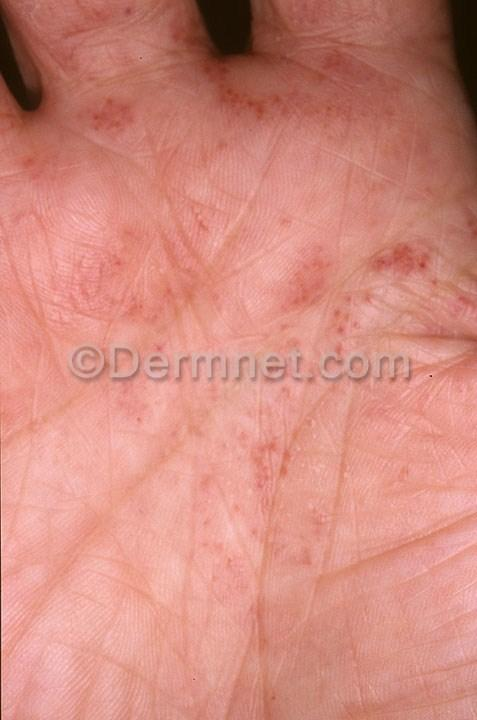Eczema: (54, 167, 172, 304), (334, 158, 435, 290), (264, 291, 357, 422), (215, 434, 308, 525), (196, 77, 310, 144), (70, 64, 142, 134)
